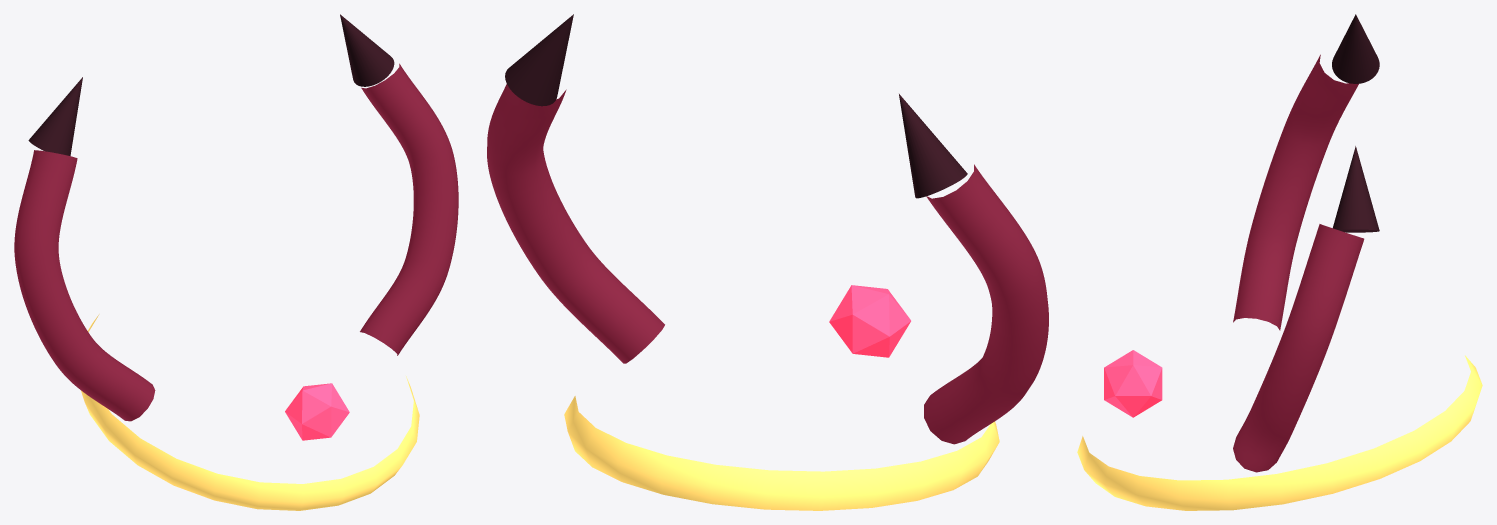
Rendered from demons_circlet.glb.
3 renders of one model, left to right at view 1: azimuth 30°, elevation 25°; view 2: azimuth 150°, elevation 25°; view 3: azimuth 270°, elevation 25°, orthographic. The views are drawn at different scales.
Visible parts, largest first — view 1: dc_horn_r, dc_horn_l, dc_ring, dc_gem, dc_tip_l, dc_tip_r; view 2: dc_ring, dc_horn_r, dc_horn_l, dc_gem, dc_tip_l, dc_tip_r; view 3: dc_ring, dc_horn_r, dc_horn_l, dc_gem, dc_tip_l, dc_tip_r.
Boxes of the visible parts, box(x1,y1,x2,y2) form: dc_horn_r: box(14, 150, 155, 421); dc_horn_l: box(360, 63, 458, 355); dc_ring: box(81, 314, 419, 510); dc_gem: box(285, 383, 349, 440); dc_tip_l: box(340, 14, 394, 86); dc_tip_r: box(28, 77, 82, 155); dc_ring: box(564, 396, 999, 510); dc_horn_r: box(924, 164, 1048, 444); dc_horn_l: box(487, 84, 664, 363); dc_gem: box(829, 285, 910, 357); dc_tip_l: box(505, 14, 573, 106); dc_tip_r: box(899, 94, 967, 198); dc_ring: box(1077, 355, 1482, 510); dc_horn_r: box(1233, 54, 1358, 330); dc_horn_l: box(1233, 224, 1364, 472); dc_gem: box(1104, 350, 1162, 417); dc_tip_l: box(1333, 146, 1379, 232); dc_tip_r: box(1332, 14, 1379, 83).
Size of the model in its own units: 0.3079 by 0.249 by 0.2368.
